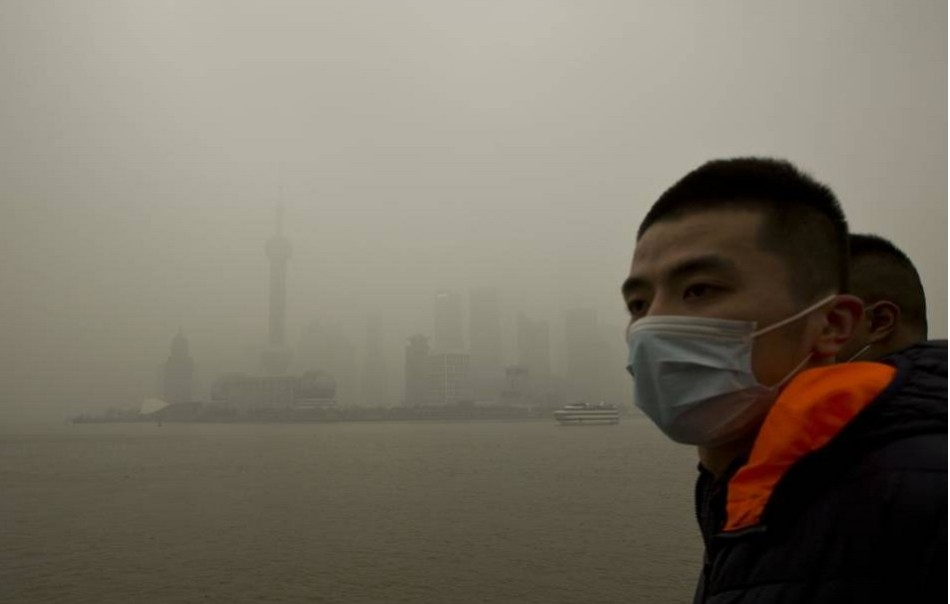face_mask: (625, 209, 796, 443)
